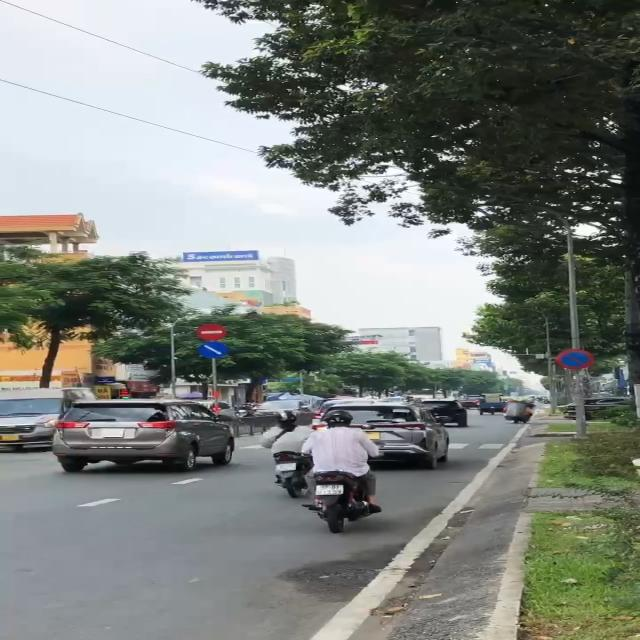Bien bao cam di nguoc chieu: (193, 323, 227, 341)
Bien bao huong phai di vong chuong ngai vat: (197, 341, 232, 359)
